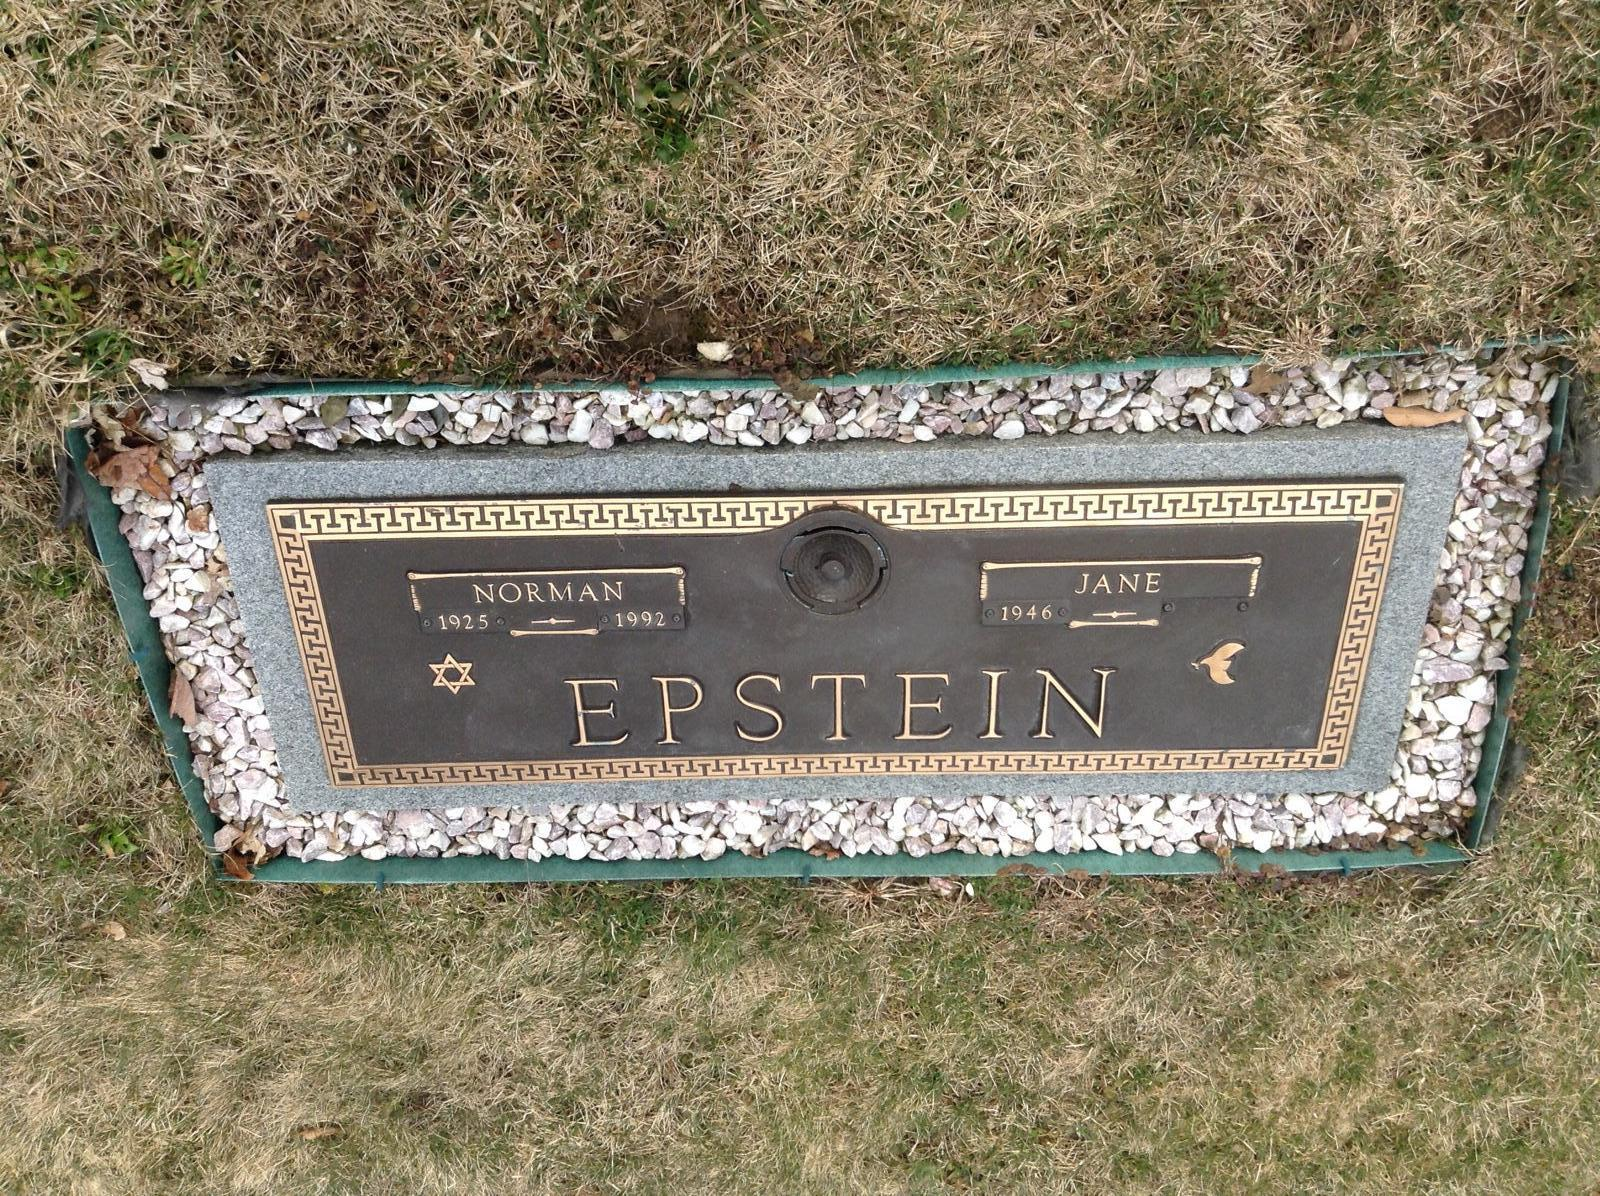flat: (201, 426, 1464, 819)
